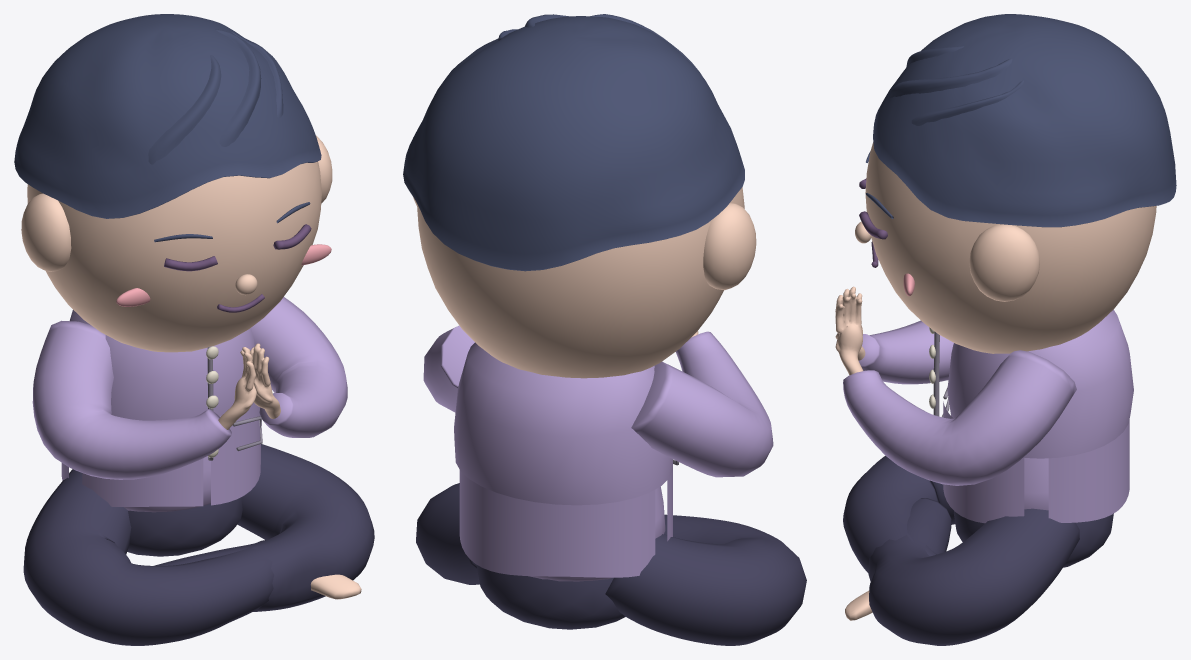
The model's file is meditator_male_cross_prayer_undercut_p07a.glb.
3 views of the same model, side by side, from view 1: azimuth 30°, elevation 25°; view 2: azimuth 150°, elevation 25°; view 3: azimuth 270°, elevation 25° (orthographic). The views are drawn at different scales.
Visible parts, largest first — view 1: hair_neat_male_gentle_undercut_p07a_object, ao_ba_ba_pants_SeatRoot_object, ao_ba_ba_top_UpperBodyBreath_object, skin_rose_cream_UpperBodyBreath_object, eyes_mauve_UpperBodyBreath_object, skin_rose_cream_SeatRoot_ankle_instep_toes_p05e_object, skin_blush_UpperBodyBreath_object; view 2: hair_neat_male_gentle_undercut_p07a_object, ao_ba_ba_top_UpperBodyBreath_object, skin_rose_cream_UpperBodyBreath_object, ao_ba_ba_pants_SeatRoot_object; view 3: hair_neat_male_gentle_undercut_p07a_object, ao_ba_ba_top_UpperBodyBreath_object, skin_rose_cream_UpperBodyBreath_object, ao_ba_ba_pants_SeatRoot_object, ao_ba_ba_placket_UpperBodyBreath_object, eyes_mauve_UpperBodyBreath_object, skin_rose_cream_SeatRoot_ankle_instep_toes_p05e_object.
Boxes of the visible parts, left/top/right/bottom form: hair_neat_male_gentle_undercut_p07a_object: left=14, top=14, right=321, bottom=242; ao_ba_ba_pants_SeatRoot_object: left=23, top=444, right=374, bottom=645; ao_ba_ba_top_UpperBodyBreath_object: left=32, top=297, right=347, bottom=512; skin_rose_cream_UpperBodyBreath_object: left=21, top=135, right=332, bottom=429; eyes_mauve_UpperBodyBreath_object: left=164, top=224, right=311, bottom=312; skin_rose_cream_SeatRoot_ankle_instep_toes_p05e_object: left=310, top=574, right=361, bottom=599; skin_blush_UpperBodyBreath_object: left=116, top=244, right=331, bottom=306; hair_neat_male_gentle_undercut_p07a_object: left=403, top=14, right=744, bottom=271; ao_ba_ba_top_UpperBodyBreath_object: left=423, top=325, right=773, bottom=581; skin_rose_cream_UpperBodyBreath_object: left=413, top=187, right=756, bottom=378; ao_ba_ba_pants_SeatRoot_object: left=416, top=483, right=806, bottom=645; hair_neat_male_gentle_undercut_p07a_object: left=866, top=14, right=1176, bottom=227; ao_ba_ba_top_UpperBodyBreath_object: left=843, top=309, right=1133, bottom=523; skin_rose_cream_UpperBodyBreath_object: left=835, top=142, right=1156, bottom=375; ao_ba_ba_pants_SeatRoot_object: left=843, top=456, right=1113, bottom=645; ao_ba_ba_placket_UpperBodyBreath_object: left=933, top=332, right=949, bottom=417; eyes_mauve_UpperBodyBreath_object: left=859, top=178, right=887, bottom=267; skin_rose_cream_SeatRoot_ankle_instep_toes_p05e_object: left=845, top=590, right=872, bottom=620.
Bounding box in the file's own units: 0.7292 × 1.17 × 0.654.
